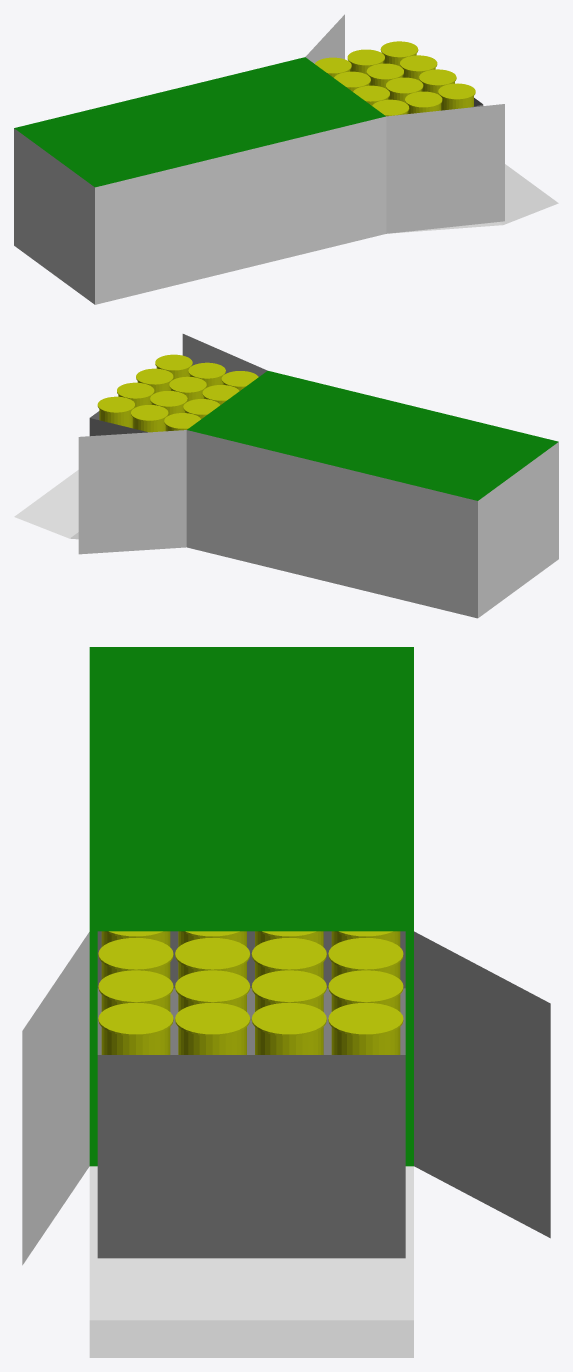
The model's file is assaultRifleAmmo.fbx.
3 renders of one model, top to bottom at view 1: azimuth 30°, elevation 25°; view 2: azimuth 150°, elevation 25°; view 3: azimuth 270°, elevation 25°, orthographic. The views are drawn at different scales.
Visible parts, largest first — view 1: Cube, Cylinder.003, Cylinder.007, Cylinder.002, Cylinder.001, Cylinder.005, Cylinder, Cylinder.004, Cylinder.006, Cylinder.009, Cylinder.008, Cylinder.010 (+1 smaller); view 2: Cube, Cylinder, Cylinder.004, Cylinder.003, Cylinder.002, Cylinder.007, Cylinder.001, Cylinder.006, Cylinder.005, Cube.001, Cylinder.008, Cylinder.009 (+2 smaller); view 3: Cube, Cube.001, Cylinder, Cylinder.003, Cylinder.001, Cylinder.002, Cylinder.008, Cylinder.011, Cylinder.004, Cylinder.007, Cylinder.006, Cylinder.005 (+2 smaller).
Part boxes in pixels (<box>): Cube: <box>14,14,558,304</box>; Cylinder.003: <box>438,83,475,110</box>; Cylinder.007: <box>405,91,442,113</box>; Cylinder.002: <box>419,69,456,94</box>; Cylinder.001: <box>400,55,437,80</box>; Cylinder.005: <box>366,63,403,88</box>; Cylinder: <box>380,41,418,66</box>; Cylinder.004: <box>347,49,384,74</box>; Cylinder.006: <box>386,77,423,102</box>; Cylinder.009: <box>334,71,370,91</box>; Cylinder.008: <box>315,57,351,77</box>; Cylinder.010: <box>353,85,389,105</box>; Cube: <box>14,334,558,618</box>; Cylinder: <box>97,396,134,428</box>; Cylinder.004: <box>131,405,168,432</box>; Cylinder.003: <box>155,354,192,380</box>; Cylinder.002: <box>136,368,173,393</box>; Cylinder.007: <box>188,362,225,388</box>; Cylinder.001: <box>117,382,154,407</box>; Cylinder.006: <box>169,376,206,402</box>; Cylinder.005: <box>150,391,187,415</box>; Cube.001: <box>89,411,147,436</box>; Cylinder.008: <box>164,413,200,431</box>; Cylinder.009: <box>183,399,219,418</box>; Cube: <box>22,647,550,1357</box>; Cube.001: <box>97,931,405,1258</box>; Cylinder: <box>328,1002,403,1054</box>; Cylinder.003: <box>98,1002,173,1054</box>; Cylinder.001: <box>251,1002,326,1054</box>; Cylinder.002: <box>175,1002,250,1054</box>; Cylinder.008: <box>328,938,403,979</box>; Cylinder.011: <box>98,938,173,979</box>; Cylinder.004: <box>328,970,403,1011</box>; Cylinder.007: <box>98,970,173,1011</box>; Cylinder.006: <box>175,970,250,1011</box>; Cylinder.005: <box>251,970,326,1011</box>.
Size of the model in its own units: 57.1 by 16.15 by 28.14.
